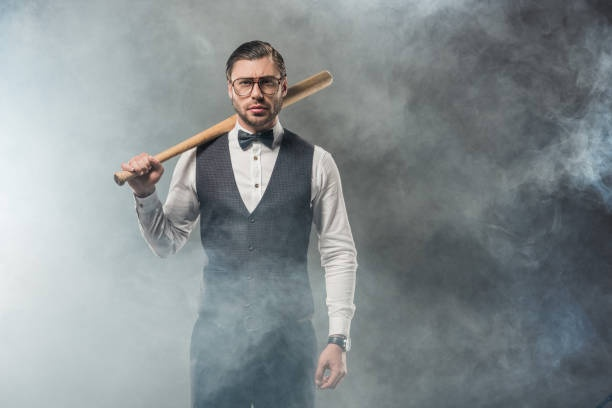bita: (106, 71, 333, 183)
